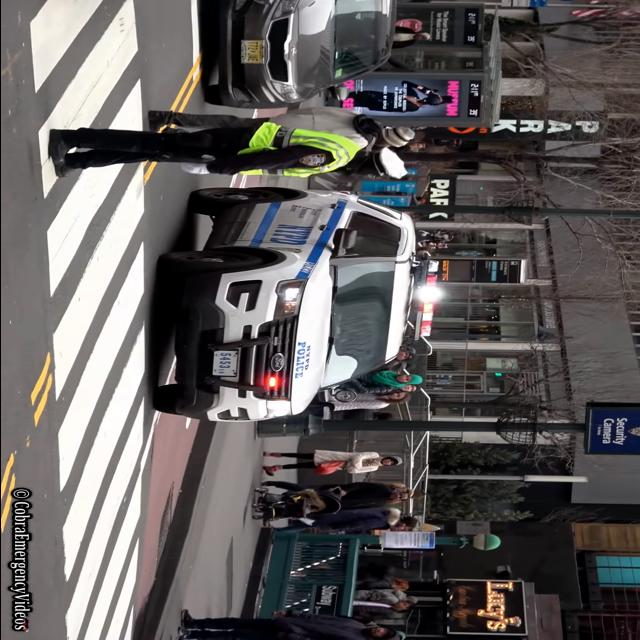emergency-vehicles: (147, 173, 450, 437)
